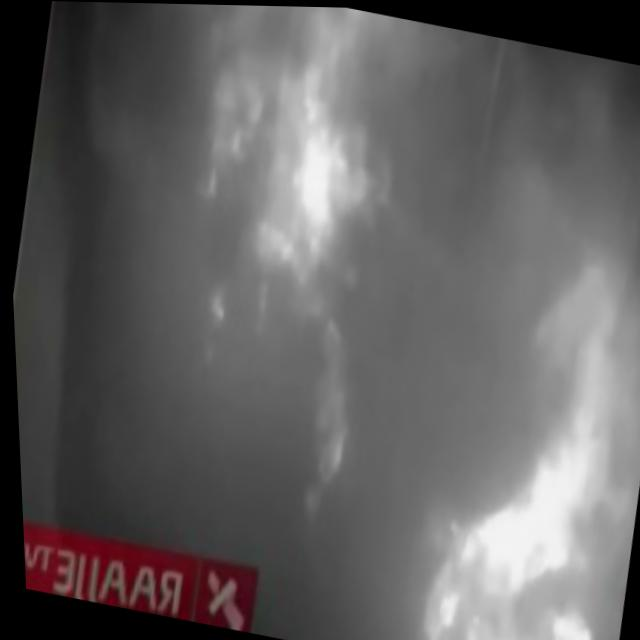fire: (248, 4, 406, 280), (503, 269, 639, 568), (176, 3, 300, 217), (437, 495, 552, 606), (404, 588, 600, 639)
